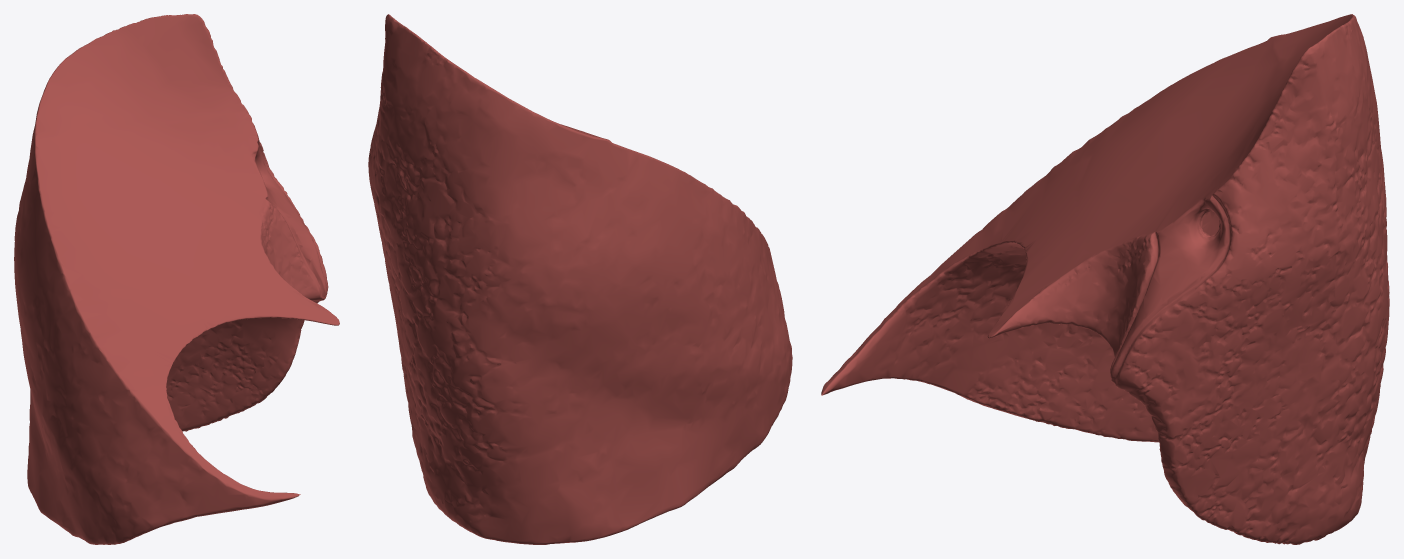
Rendered from FMA7337.glb.
3 views of the same model, side by side, from view 1: azimuth 30°, elevation 25°; view 2: azimuth 150°, elevation 25°; view 3: azimuth 270°, elevation 25° (orthographic). The views are drawn at different scales.
Visible parts, largest first — view 1: FMA7337; view 2: FMA7337; view 3: FMA7337.
Part boxes in pixels (box(x1,y1,x2,y2)): FMA7337: box(14, 14, 339, 544); FMA7337: box(368, 14, 792, 544); FMA7337: box(821, 14, 1389, 544).
Bounding box in the file's own units: 0.1265 × 0.1793 × 0.1742.
